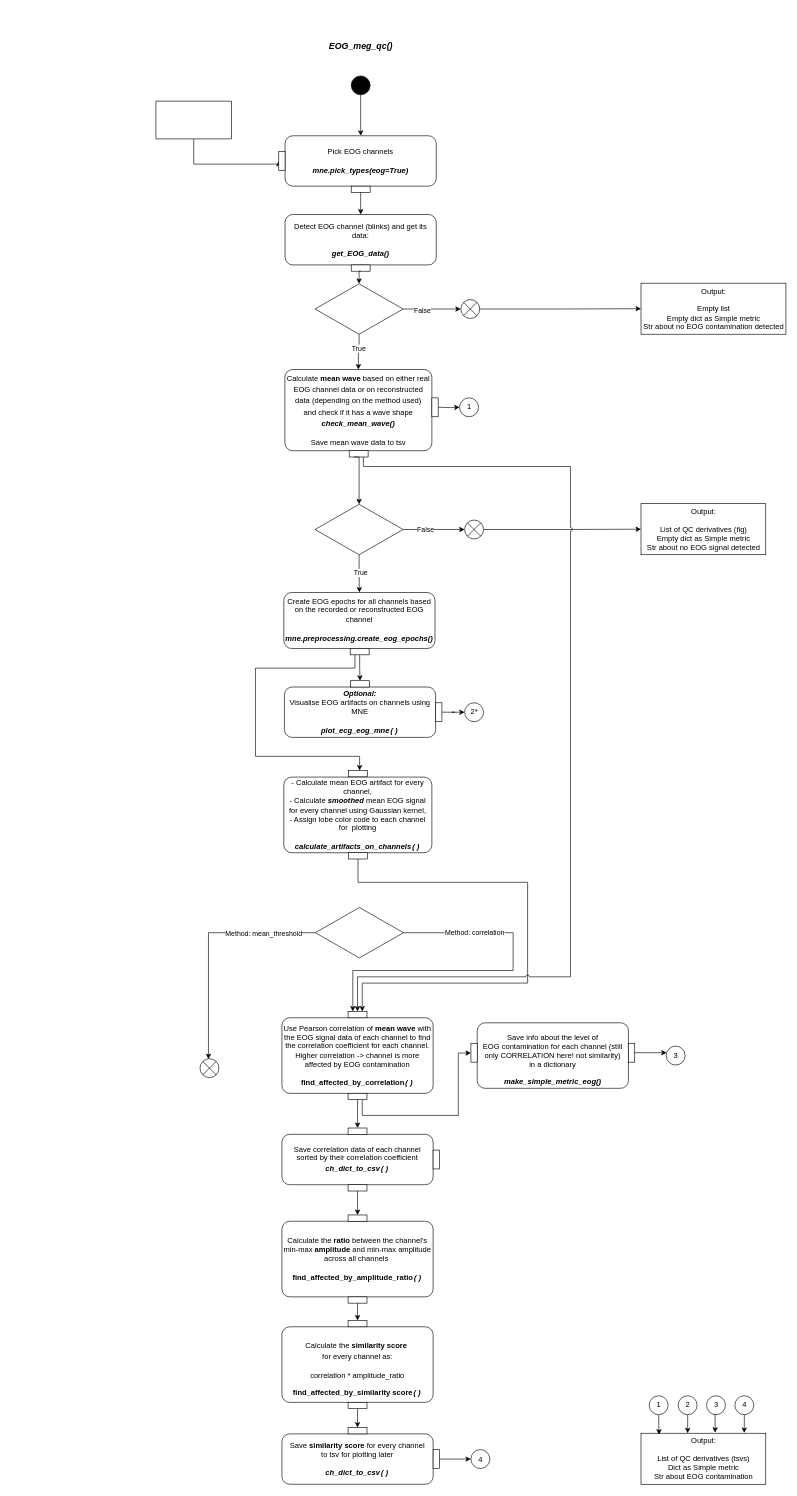
This 797x1496 diagram has some shape labels left out. Here are the shapes that lost their labels. From the top down, the box of each, then its label:
(155, 100, 232, 139): Input: Raw data, Config parameters
(314, 283, 403, 334): EOG channel present?
(314, 504, 403, 555): Mean wave is good?
(315, 907, 404, 958): Choose method
